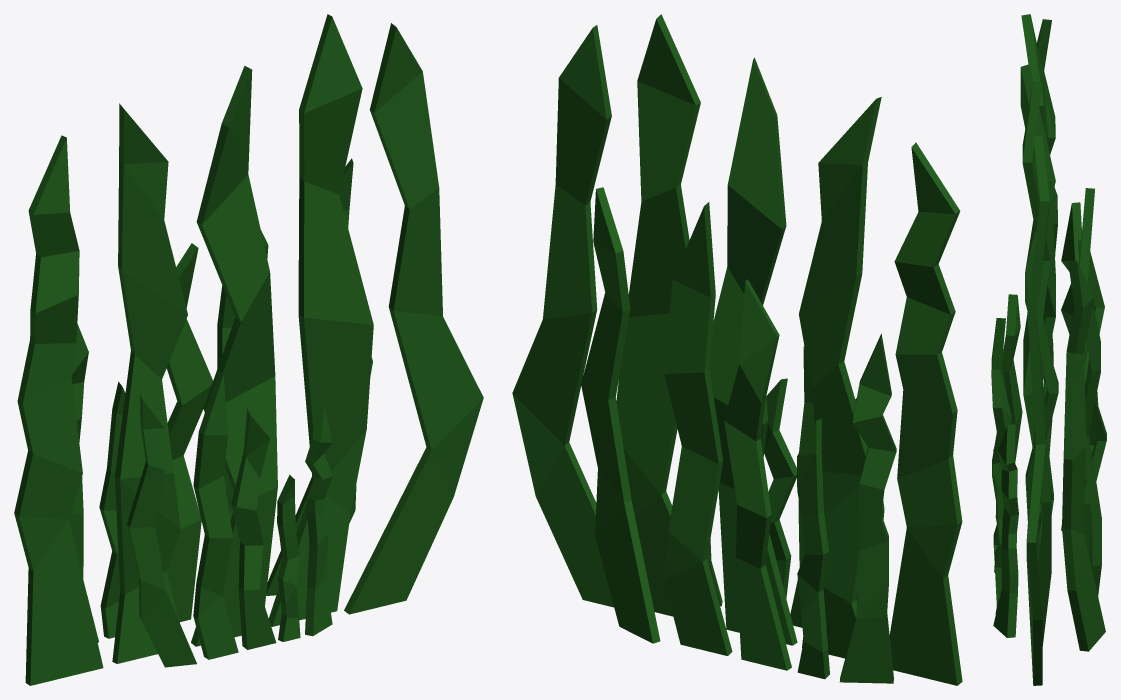
The model's file is Seaweed.fbx.
3 views of the same model, side by side, from view 1: azimuth 30°, elevation 25°; view 2: azimuth 150°, elevation 25°; view 3: azimuth 270°, elevation 25° (orthographic). The views are drawn at different scales.
Parts seen in each view (by area): view 1: Cube; view 2: Cube; view 3: Cube.
Boxes of the visible parts, x1,y1,x2,y2 form: Cube: (14,14,483,685); Cube: (512,14,962,685); Cube: (991,14,1106,685).
Size of the model in its own units: 0.2468 by 0.3118 by 0.0573.
